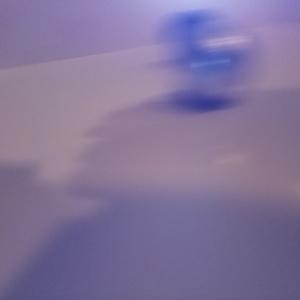alive_ball: (176, 25, 258, 102)
dead_ball: (161, 11, 228, 57)
